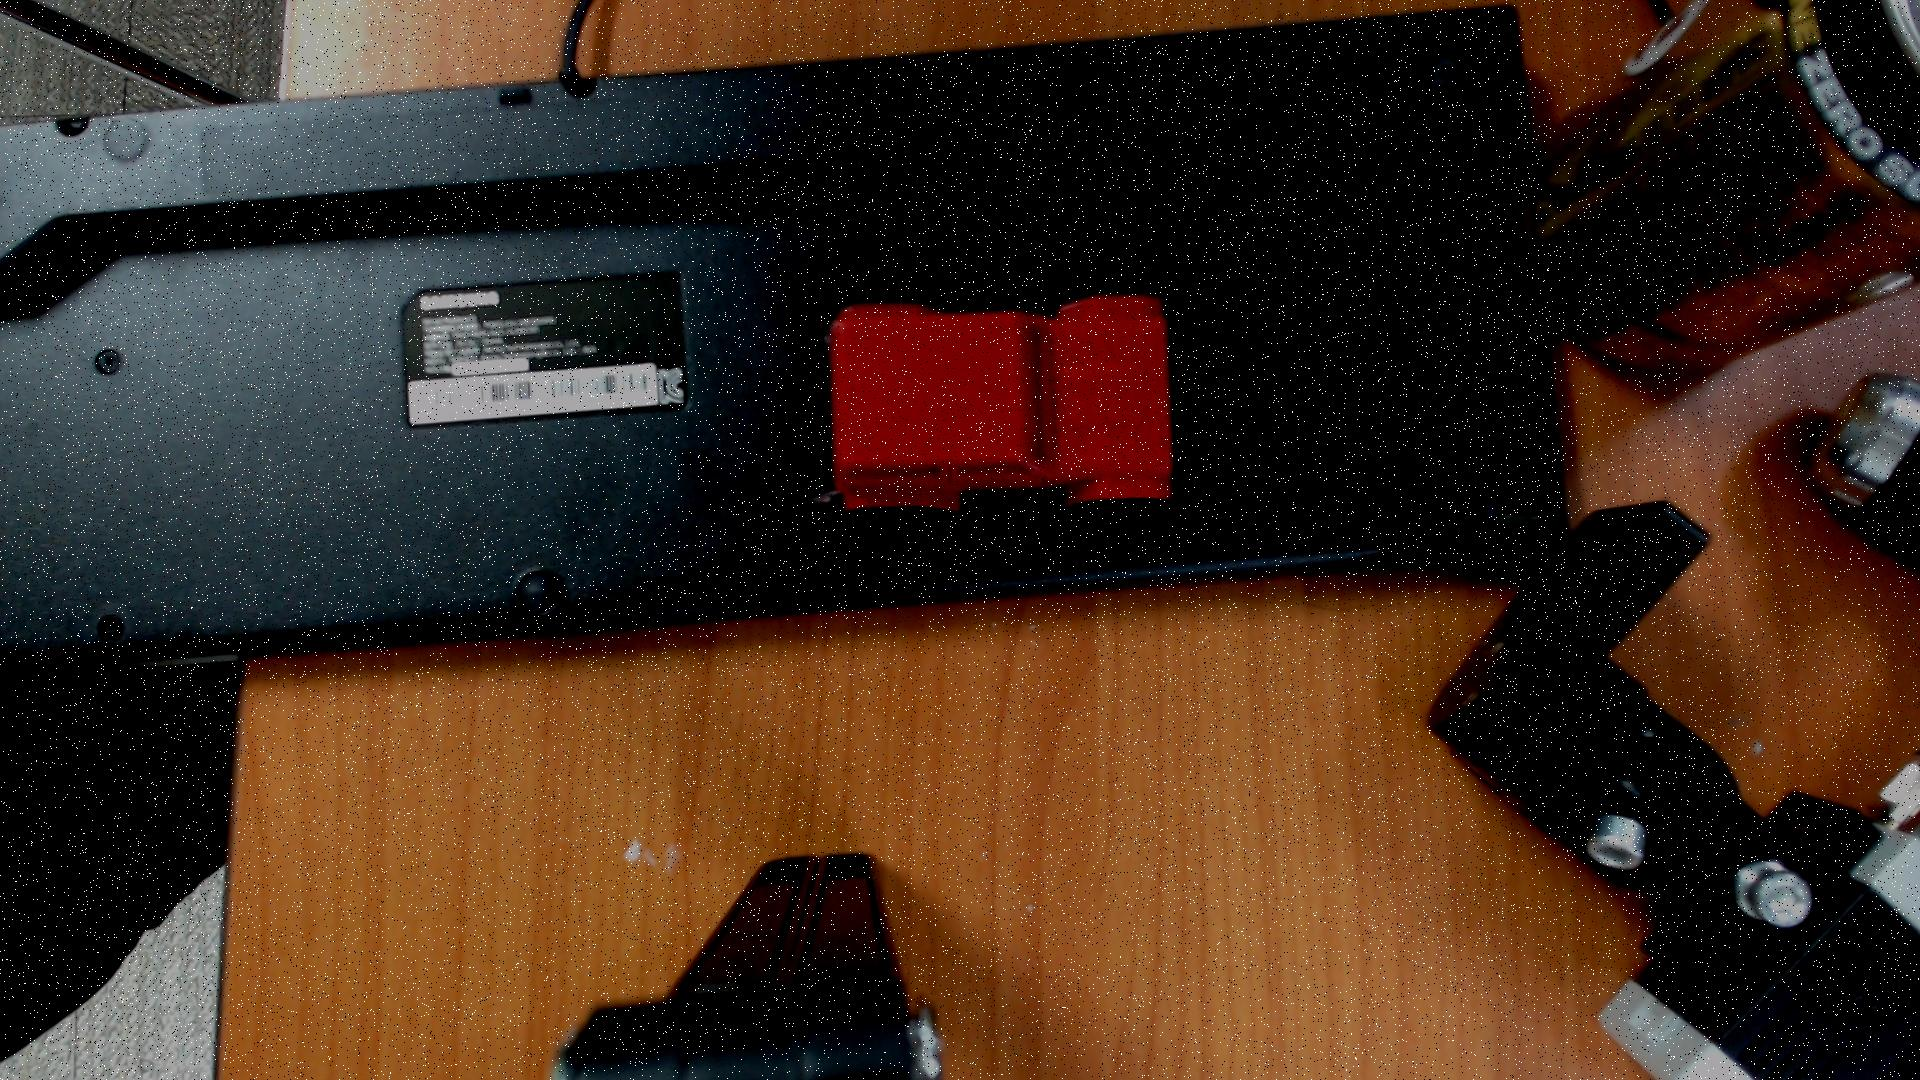Upper_ok: (829, 295, 1173, 511)
